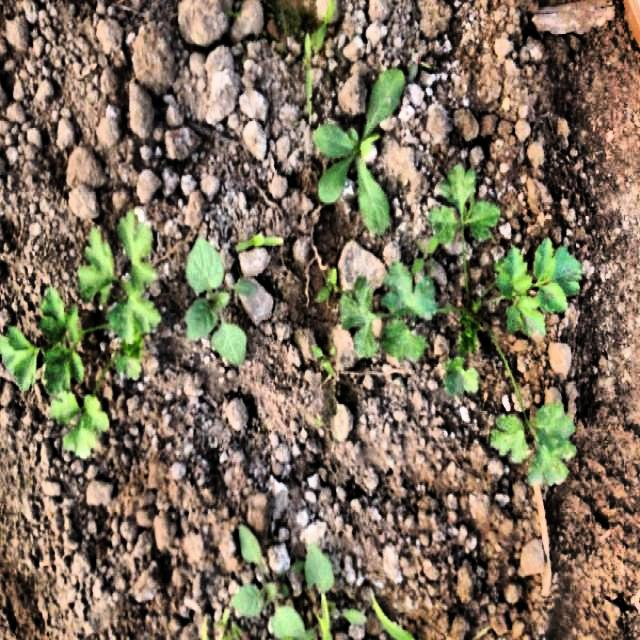Weeds: (310, 66, 412, 230)
undefined: (344, 163, 589, 490), (0, 204, 156, 453)
